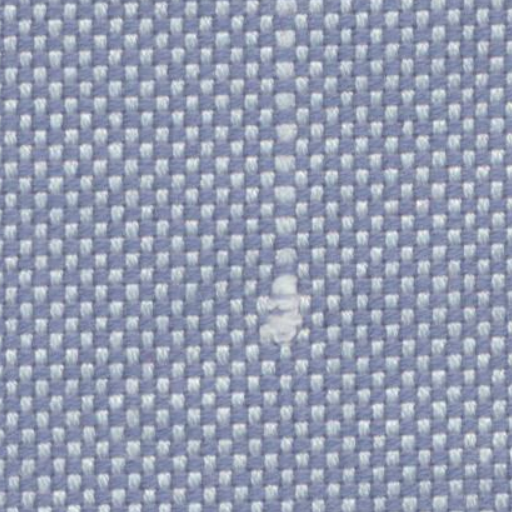DaiSha: (256, 3, 317, 368)
